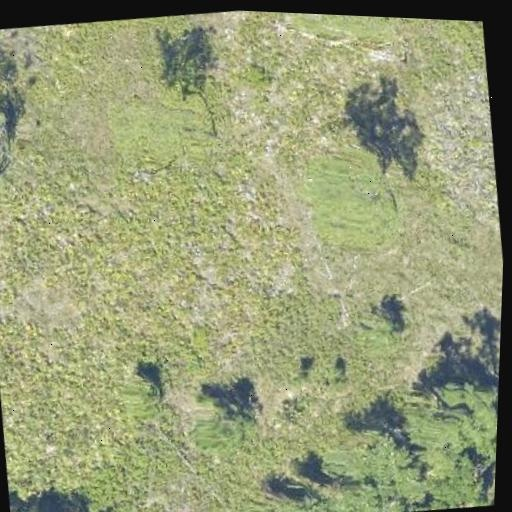tree-top: (298, 141, 401, 257), (403, 368, 499, 472), (332, 417, 433, 512), (418, 447, 496, 512), (187, 390, 259, 452), (115, 364, 169, 420)
